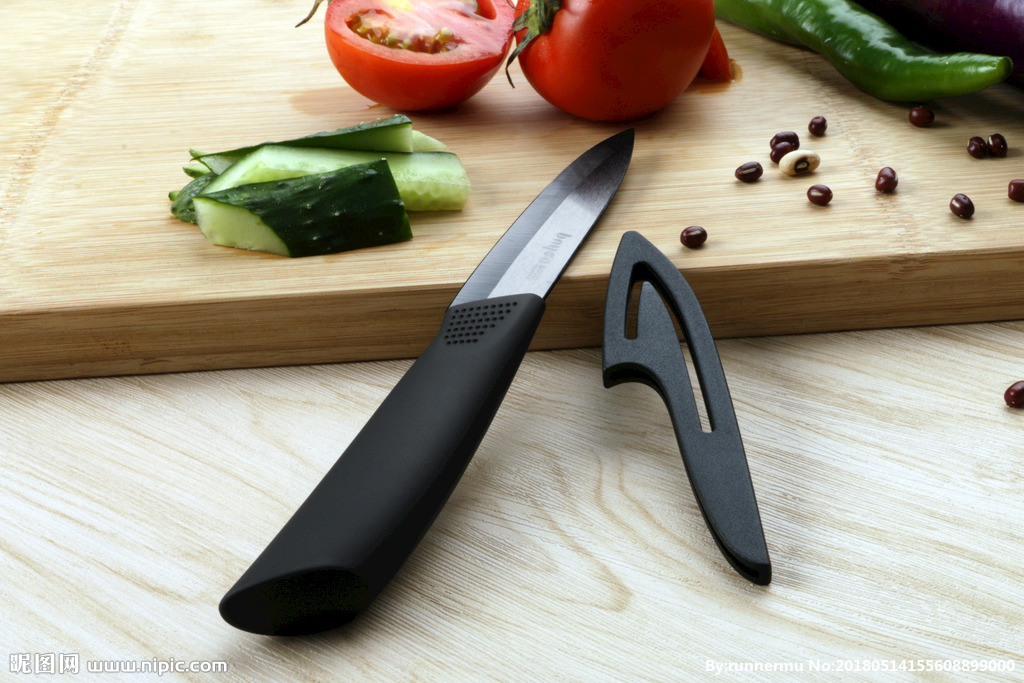knief: (228, 129, 651, 634)
